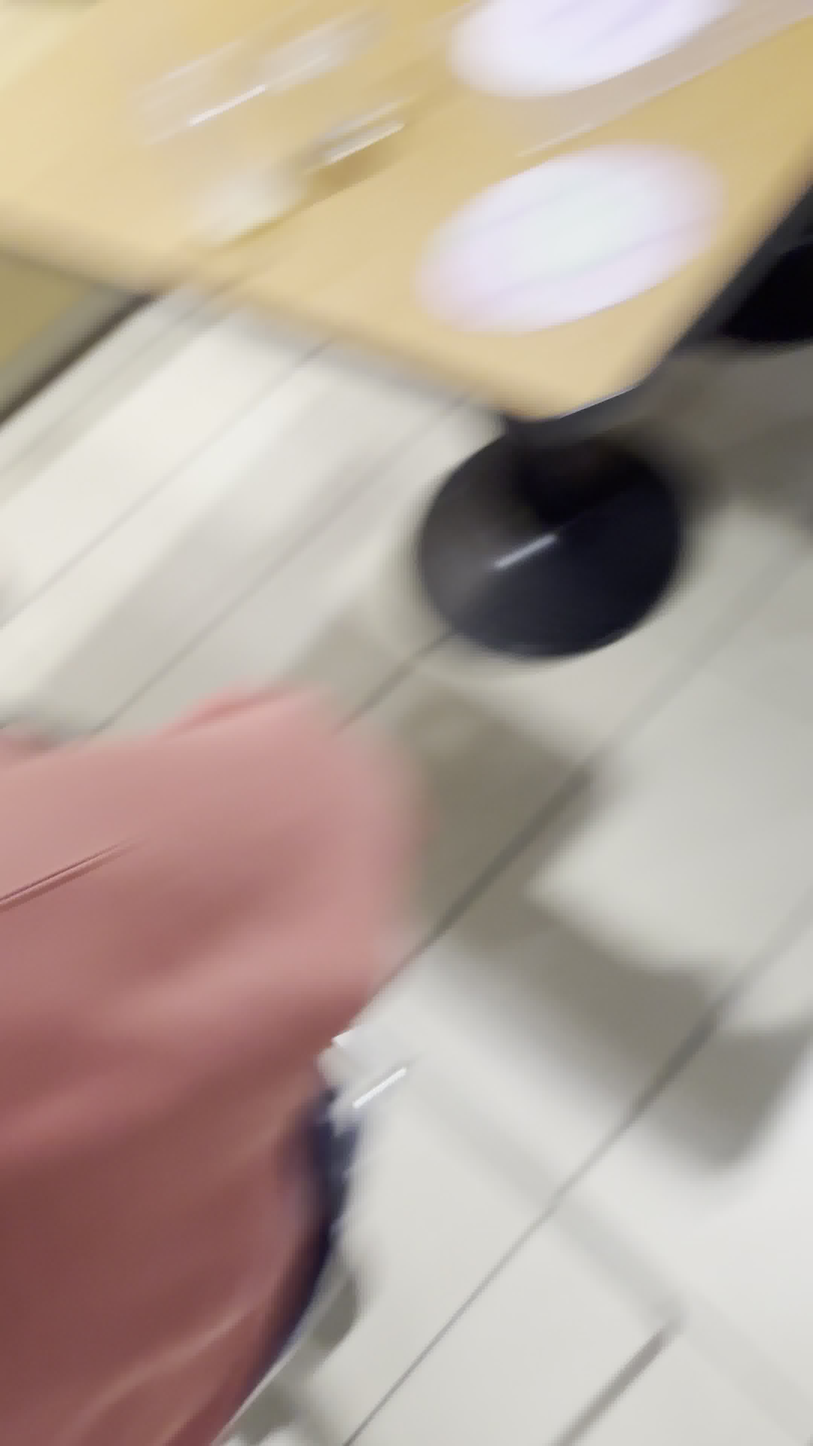Target: (409, 141, 729, 331)
